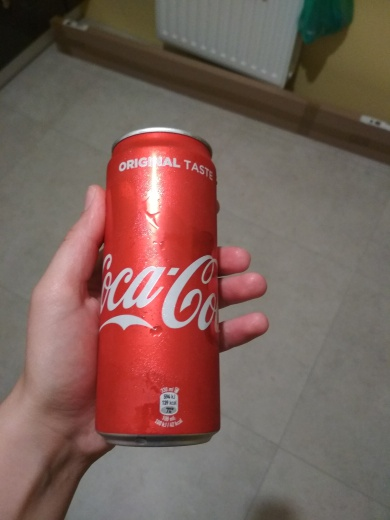cola: (75, 122, 244, 453)
